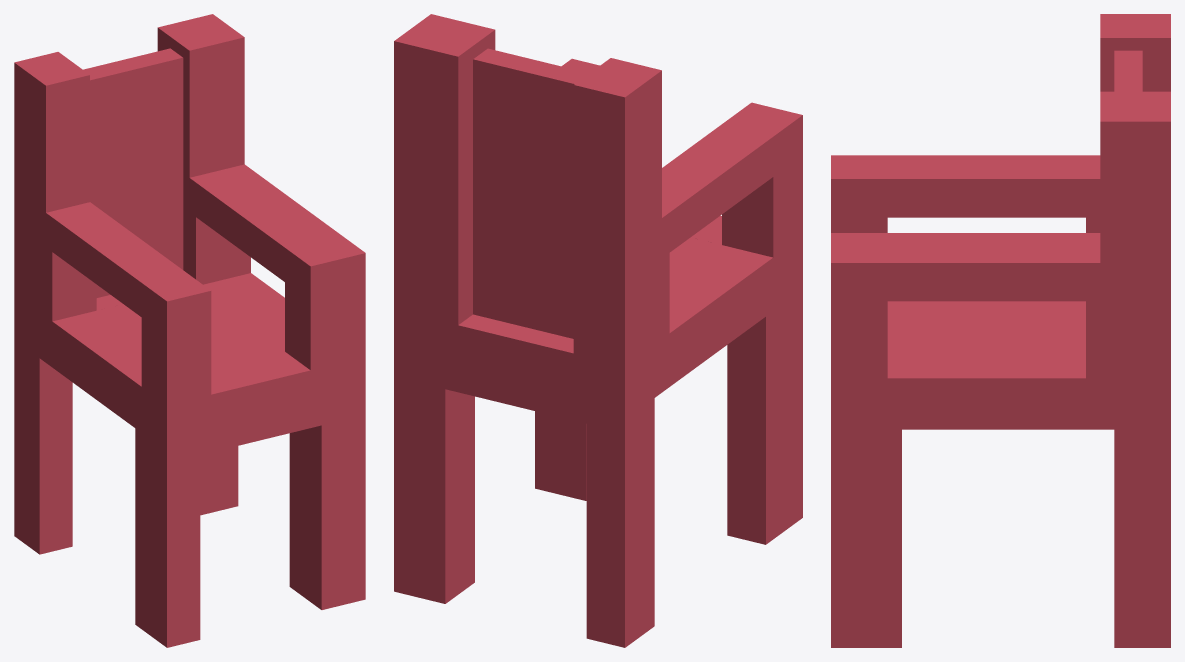
The model's file is Shiny Waasa.glb.
The picture shows the model from 3 angles, left to right: view 1: azimuth 30°, elevation 25°; view 2: azimuth 150°, elevation 25°; view 3: azimuth 270°, elevation 25°; orthographic projection. The views are drawn at different scales.
Visible parts, largest first — view 1: Mesh_Mesh_head_geo.001_lambert2SG.001; view 2: Mesh_Mesh_head_geo.001_lambert2SG.001; view 3: Mesh_Mesh_head_geo.001_lambert2SG.001.
Boxes of the visible parts, x1=… form: Mesh_Mesh_head_geo.001_lambert2SG.001: x1=14, y1=14, x2=365, y2=647; Mesh_Mesh_head_geo.001_lambert2SG.001: x1=394, y1=14, x2=802, y2=647; Mesh_Mesh_head_geo.001_lambert2SG.001: x1=831, y1=14, x2=1170, y2=647.
Size of the model in its own units: 18 by 41 by 24.
